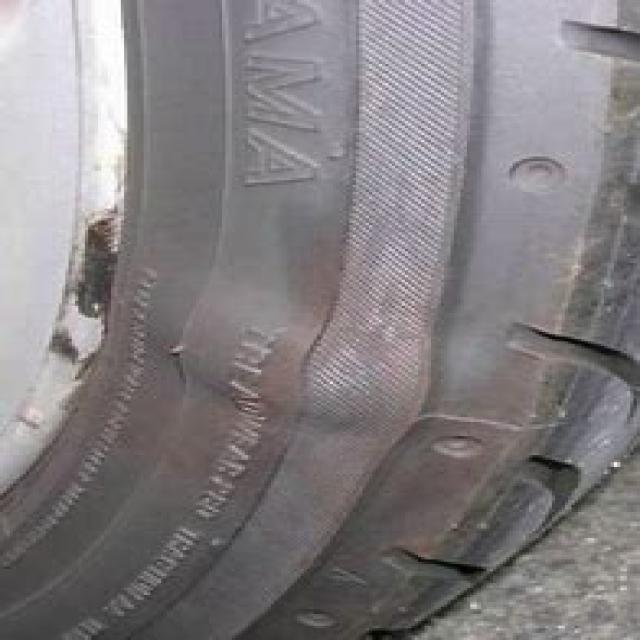Bulge: (122, 256, 407, 438)
